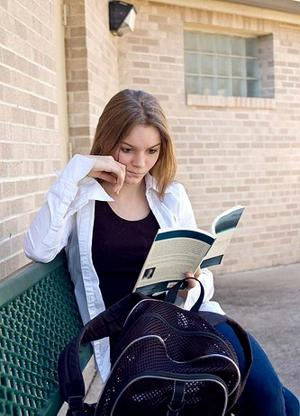person: (23, 88, 300, 415)
